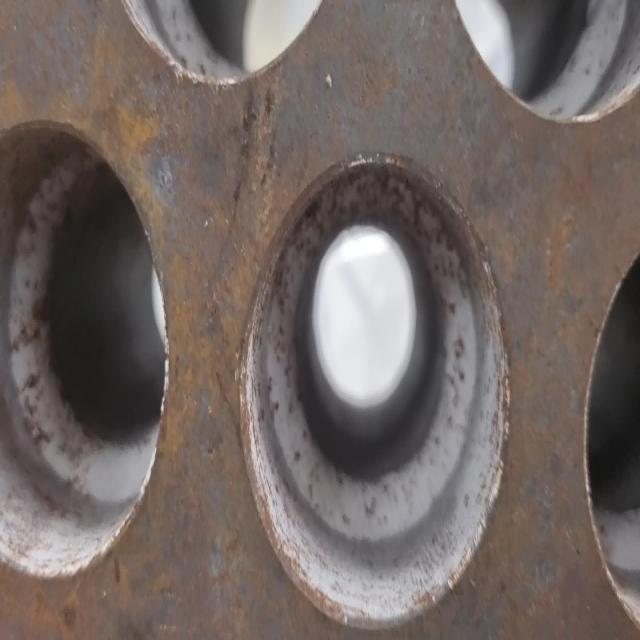Hole: (238, 150, 510, 634), (2, 116, 170, 596), (444, 1, 638, 123)
